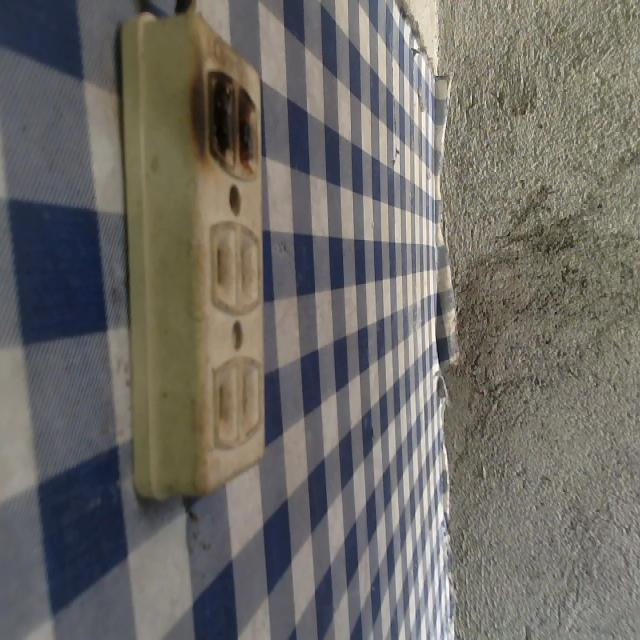-: (183, 47, 269, 180)
